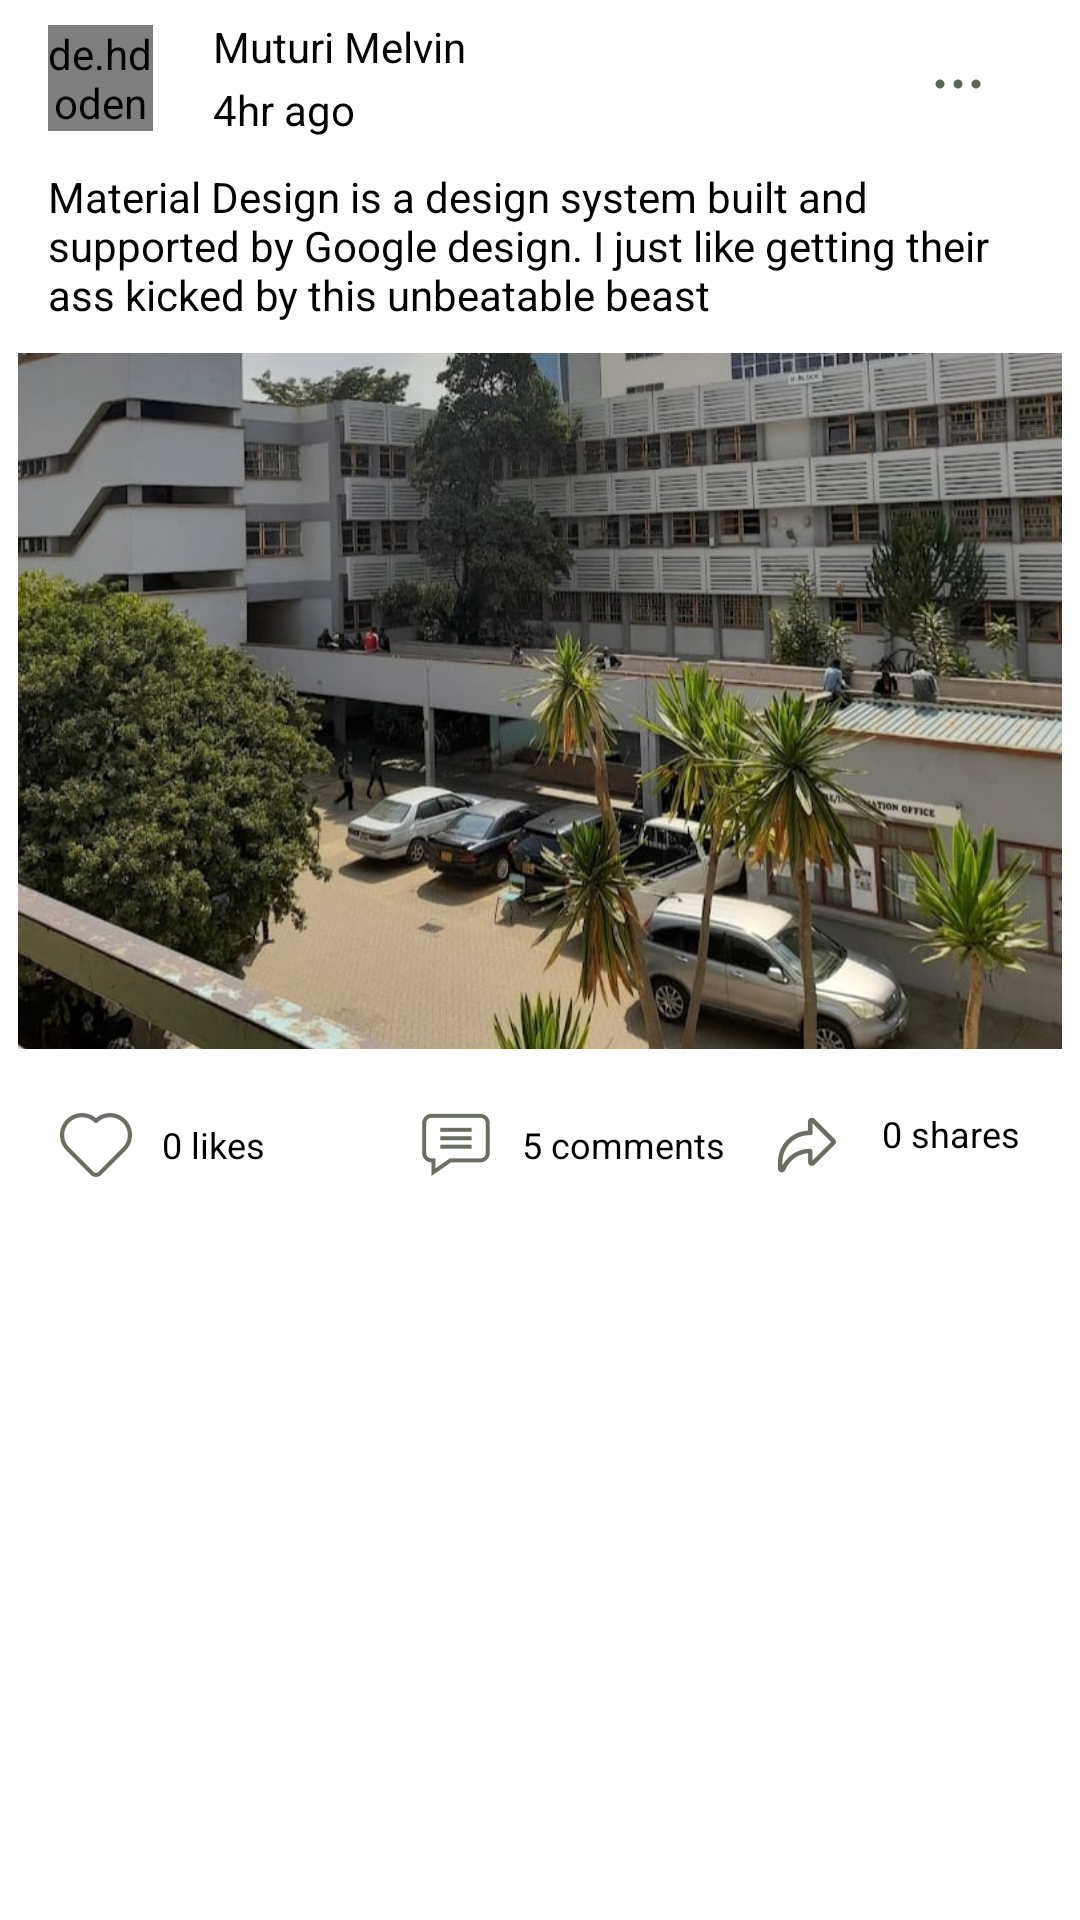

Locate icon controls on the screen. Image size 1080px×1920px, boxes as (x1, y1, x2, y2).
favourite: (60, 1113, 132, 1177)
three dots: (935, 79, 981, 89)
